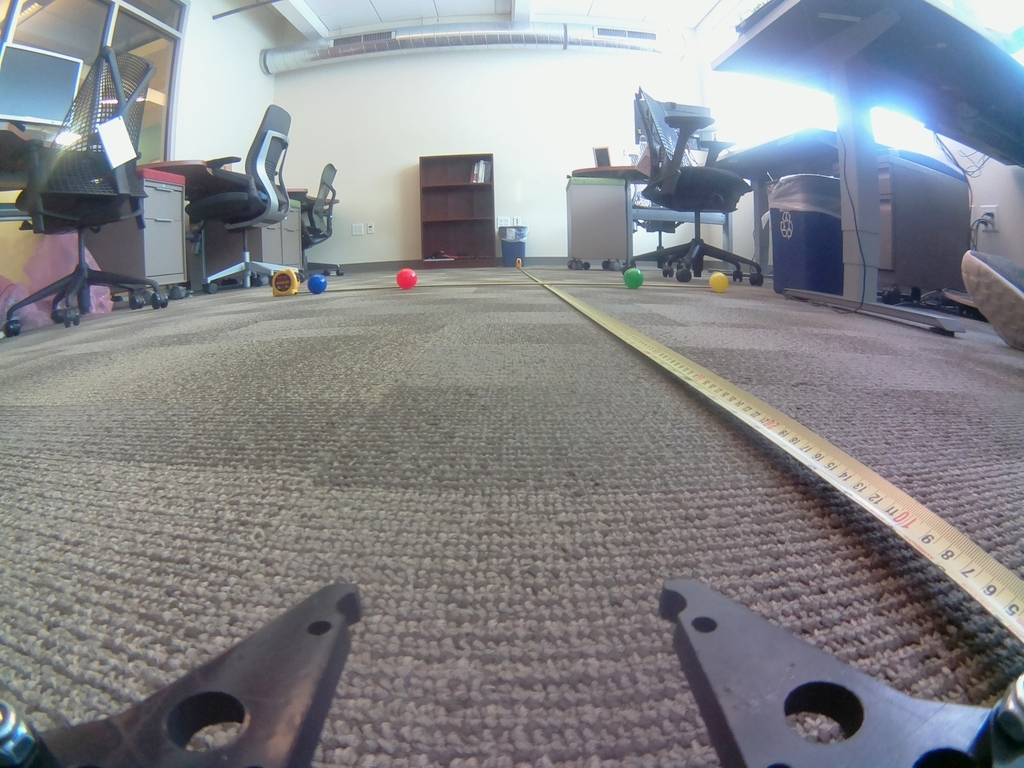ball: (308, 273, 328, 295)
